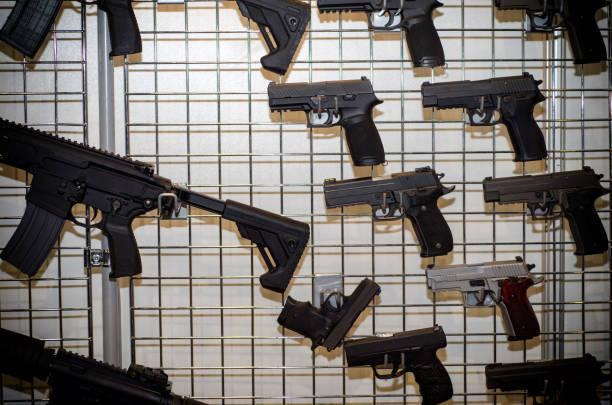weapon: (0, 109, 309, 296), (0, 319, 214, 405), (422, 75, 559, 164), (320, 171, 462, 256), (262, 77, 390, 167), (478, 171, 612, 255), (422, 259, 546, 346), (485, 0, 612, 74), (342, 329, 458, 405), (315, 0, 449, 65), (276, 278, 379, 351), (480, 352, 612, 405)
